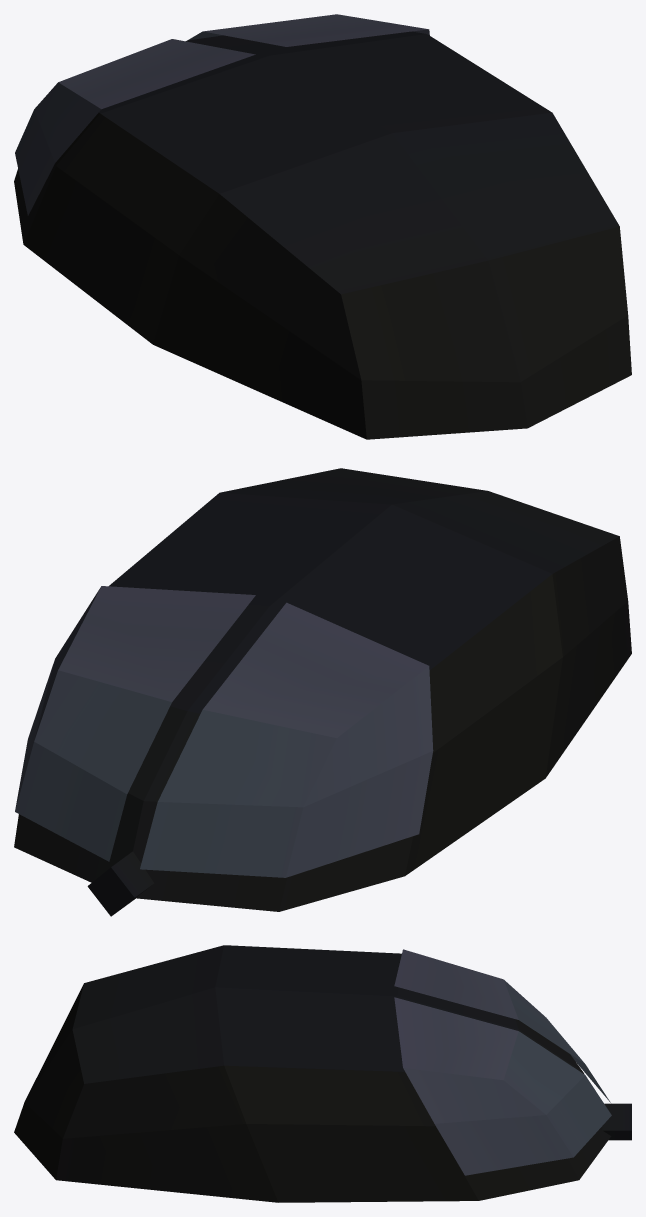
Rendered from maus.fbx.
3 views of the same model, one above another, from view 1: azimuth 30°, elevation 25°; view 2: azimuth 150°, elevation 25°; view 3: azimuth 270°, elevation 25° (orthographic). The views are drawn at different scales.
Visible parts, largest first — view 1: Cube; view 2: Cube; view 3: Cube.
Part boxes in pixels (x1,y1,x2,y2): Cube: (14,14,631,439); Cube: (14,468,631,916); Cube: (14,945,631,1202).
Bounding box in the file's own units: 20.27 × 10.19 × 37.26.
